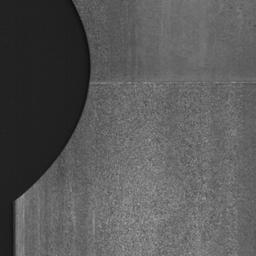Crescent gap: (15, 0, 92, 201)
